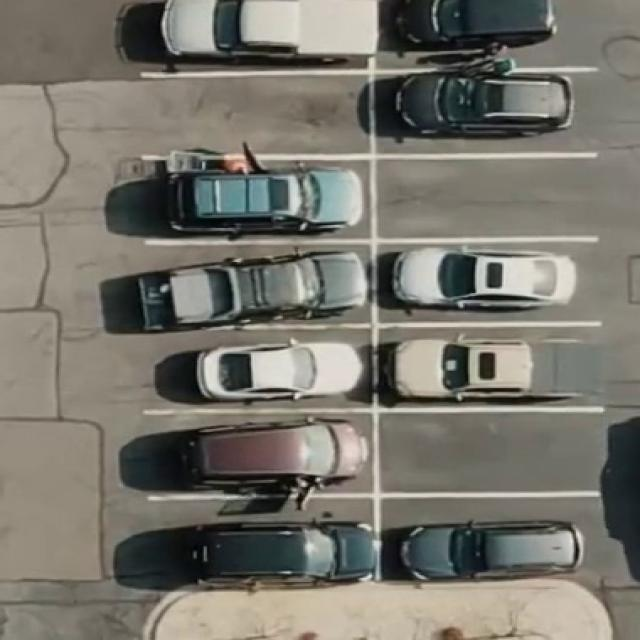empty: (380, 411, 604, 492), (381, 160, 597, 236), (146, 78, 368, 150)
notEmpty: (142, 158, 370, 238), (155, 500, 372, 583), (150, 328, 369, 407), (377, 329, 600, 406), (381, 243, 597, 322), (378, 74, 599, 150), (152, 414, 374, 488), (147, 245, 367, 318), (383, 501, 591, 578), (146, 1, 368, 66), (376, 0, 595, 64)
